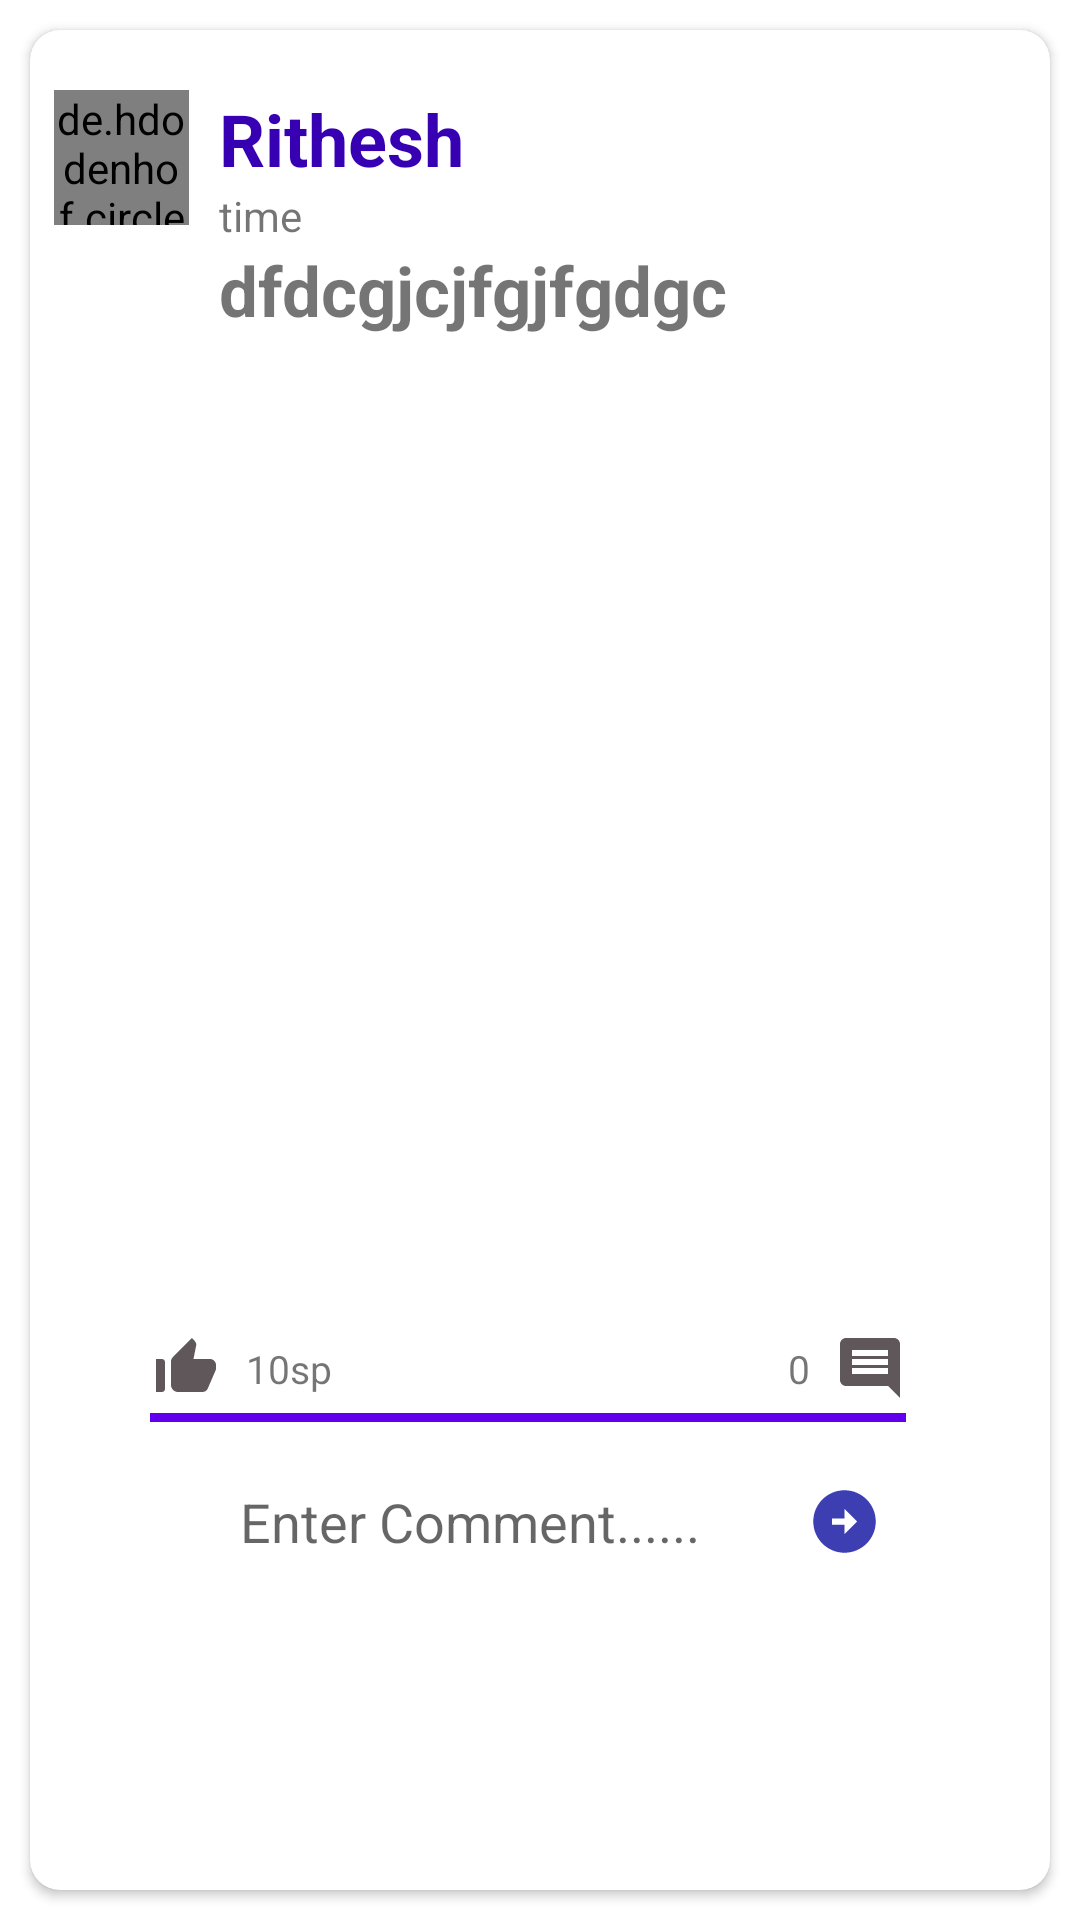

Screen size 1080 × 1920. Icon name, then its box in pixels as (x1, y1, x2, y2):
like: (156, 1338, 216, 1392)
sendpost: (813, 1490, 876, 1553)
